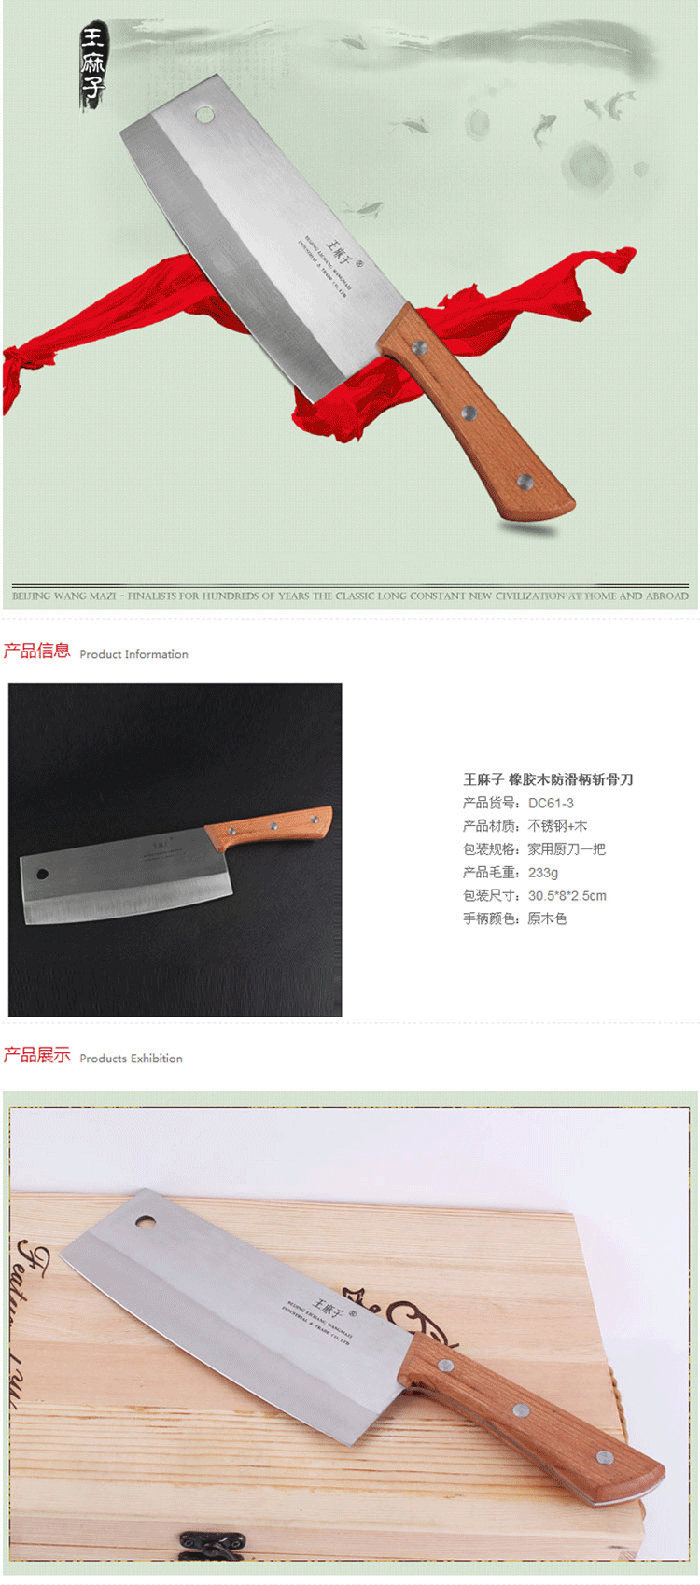knief: (123, 81, 599, 538), (72, 1187, 669, 1518)
